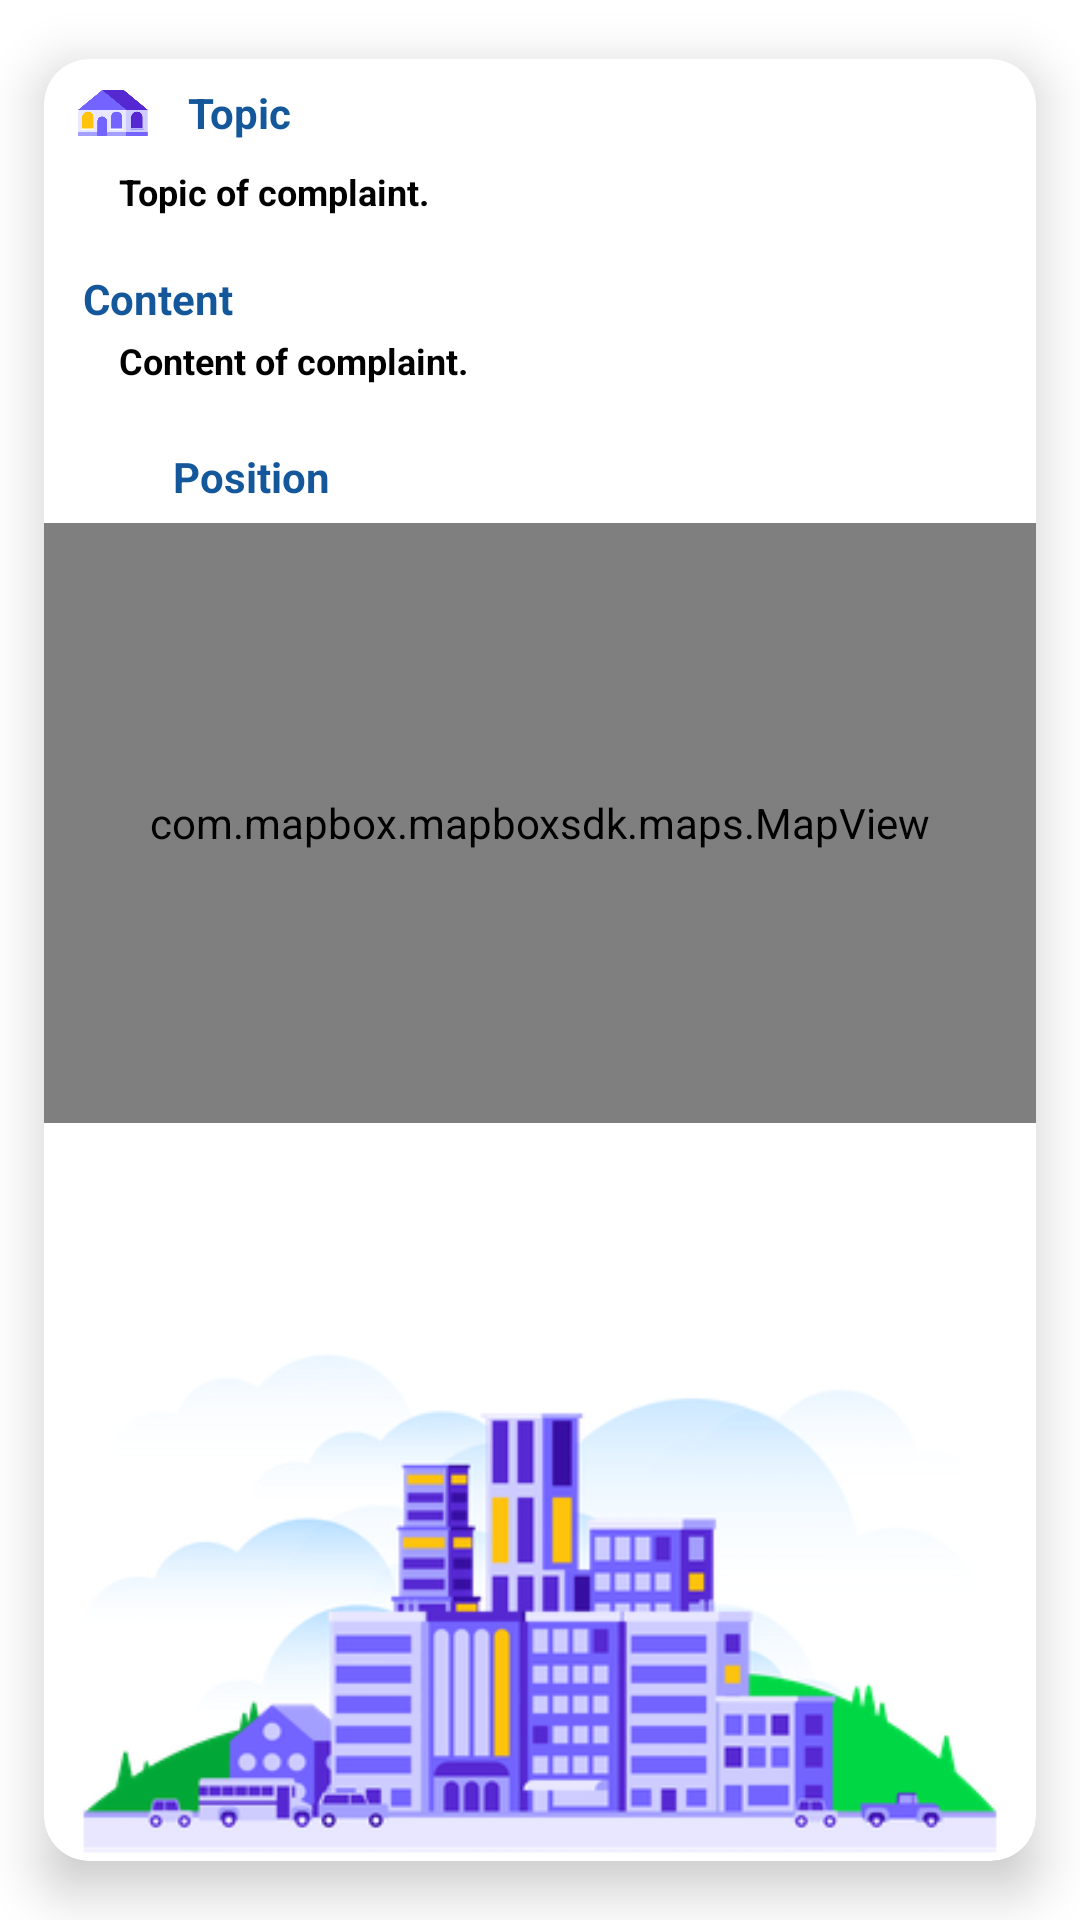

Screen size 1080*1920. Icon name, then its box in pixels as (x1, y1, x2, y2):
building: (78, 90, 148, 136)
